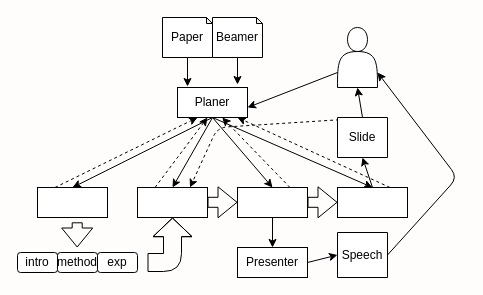
This 483x295 diagram has some shape labels left out. Here are the shapes that lost their labels. From the top down, the centre of each, then its label:
At (x=72, y=202): "Divider".
At (x=172, y=202): "Transformer".
At (x=272, y=202): "Merger".
At (x=372, y=202): "Compiler".
